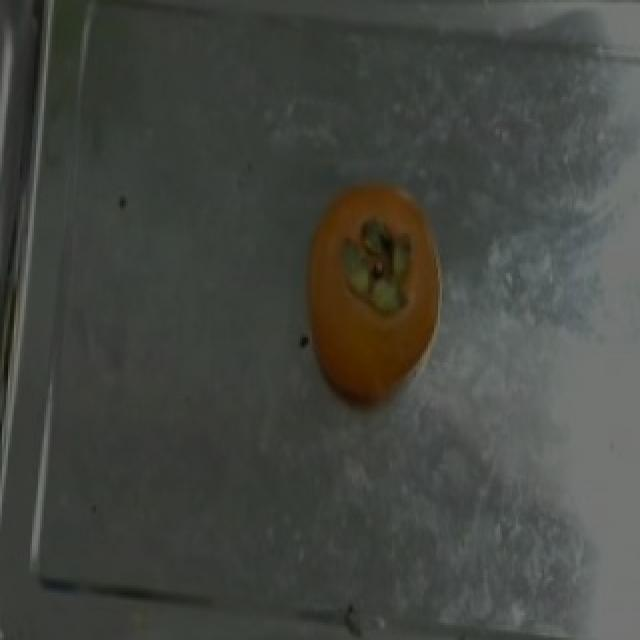Fruit: (290, 164, 466, 419)
